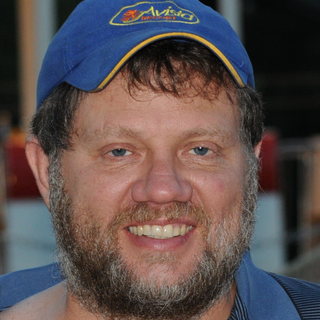eye: (96, 140, 143, 165), (178, 139, 222, 164)
